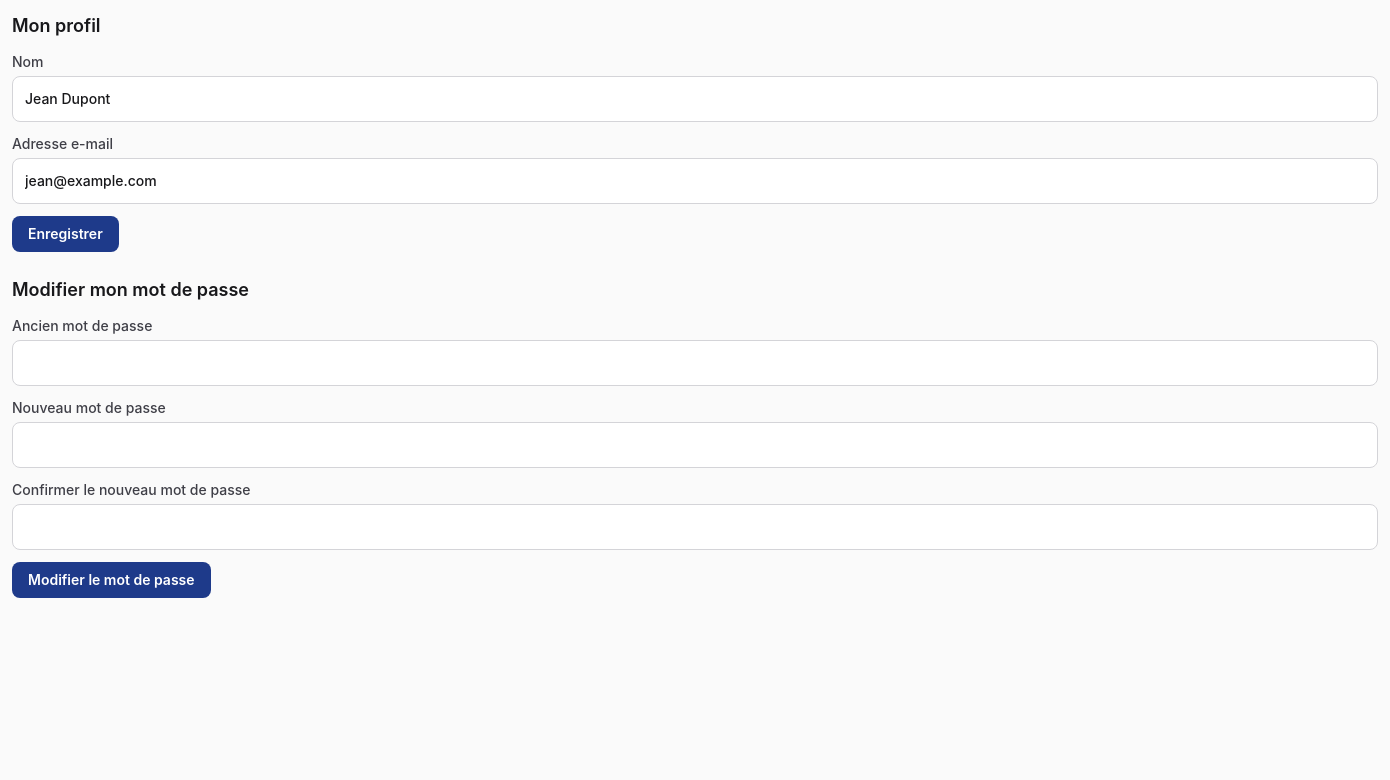
Test case: ProfilUtilisateur › met à jour le nom seul
Replace the text in the field labelled "Nom" with "Jeanne Martin" at {"x": 695, "y": 99}, box [12, 76, 1378, 122]
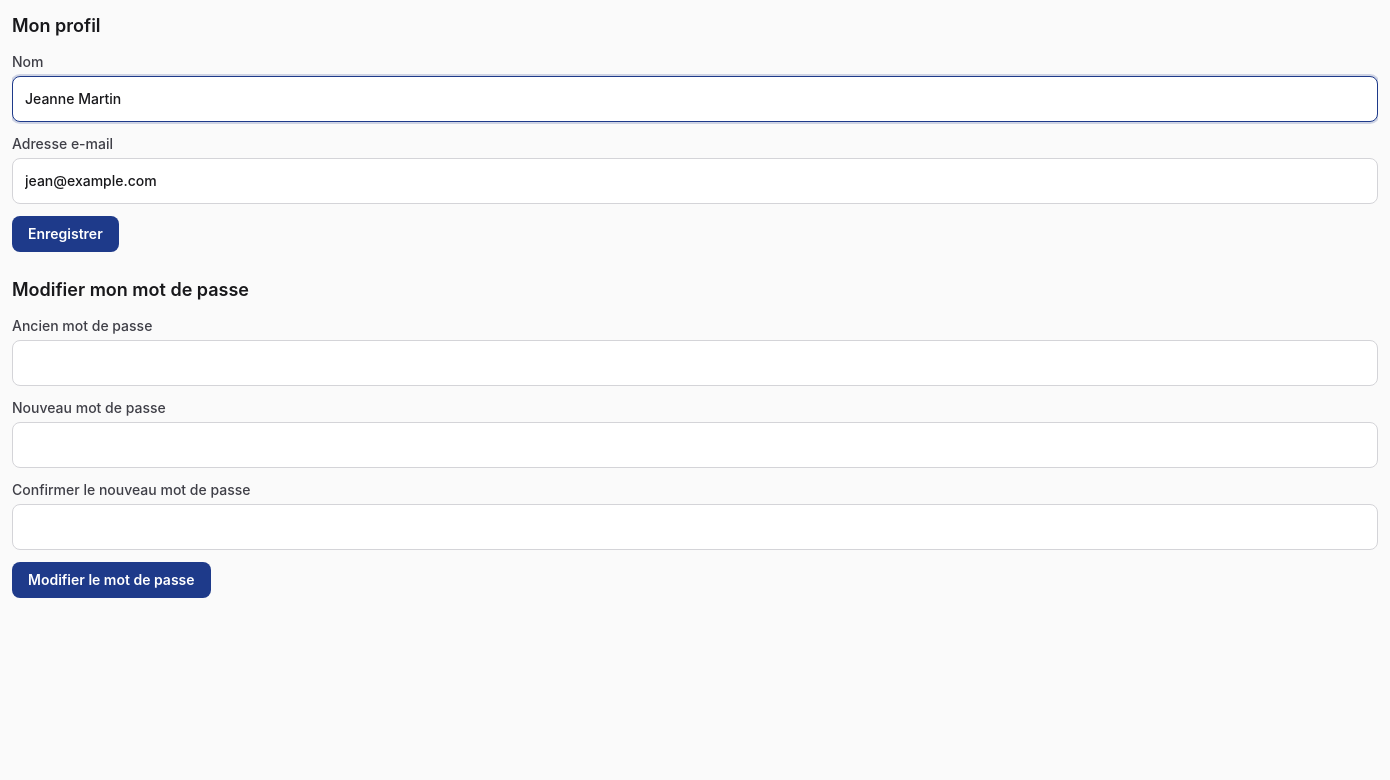
Click the button "Enregistrer" at {"x": 65, "y": 234}, box [12, 216, 119, 252]
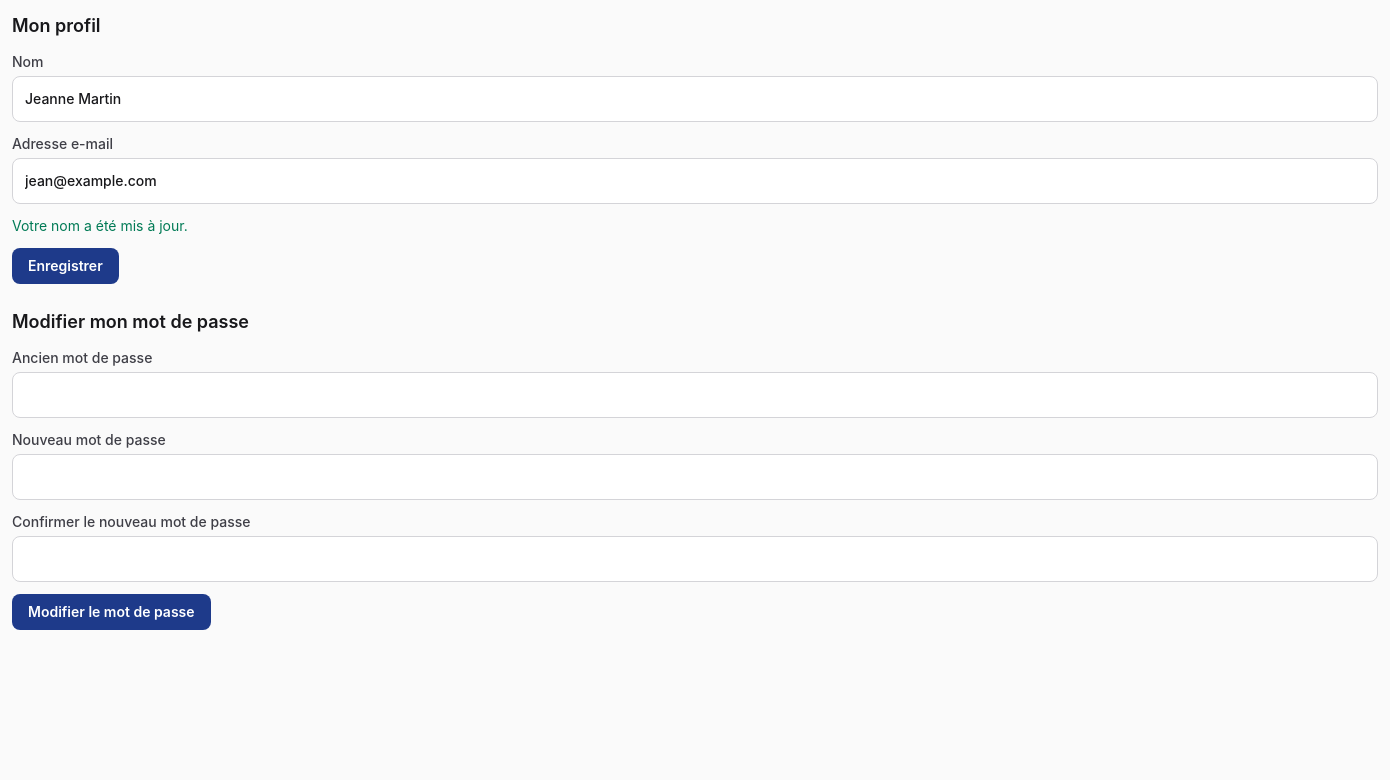
Result: the text "Votre nom a été mis à jour." is shown at [12, 217, 188, 234]
